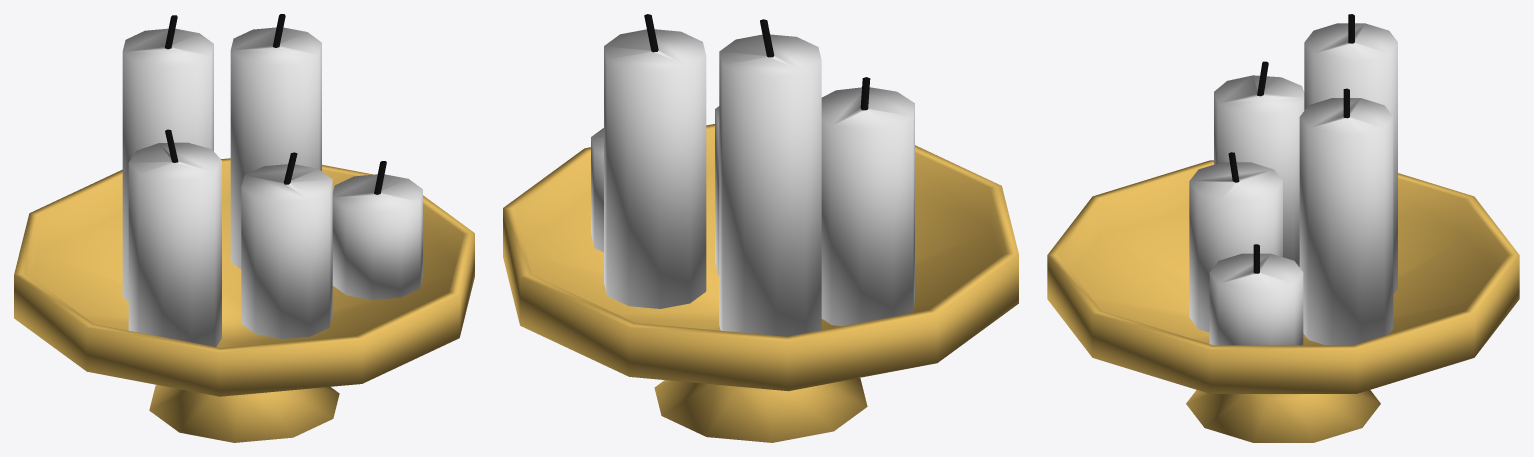
The model's file is Lilin 1,3.fbx.
3 renders of one model, left to right at view 1: azimuth 30°, elevation 25°; view 2: azimuth 150°, elevation 25°; view 3: azimuth 270°, elevation 25°, orthographic. The views are drawn at different scales.
Visible parts, largest first — view 1: Cylinder.027, Cylinder.024, Cylinder.025, Cylinder.023, Cylinder.022, Cylinder.026; view 2: Cylinder.027, Cylinder.022, Cylinder.023, Cylinder.024, Cylinder.026, Cylinder.025; view 3: Cylinder.027, Cylinder.023, Cylinder.025, Cylinder.024, Cylinder.026, Cylinder.022.
Boxes of the visible parts, box(x1,y1,x2,y2) form: Cylinder.027: box(14, 158, 474, 442); Cylinder.024: box(128, 129, 221, 346); Cylinder.025: box(241, 152, 332, 339); Cylinder.023: box(230, 14, 321, 269); Cylinder.022: box(122, 15, 213, 301); Cylinder.026: box(332, 161, 422, 300); Cylinder.027: box(503, 124, 1018, 442); Cylinder.022: box(719, 19, 821, 336); Cylinder.023: box(604, 14, 706, 308); Cylinder.024: box(821, 77, 914, 326); Cylinder.026: box(591, 128, 603, 252); Cylinder.025: box(715, 106, 719, 275); Cylinder.027: box(1047, 160, 1519, 442); Cylinder.023: box(1299, 88, 1393, 345); Cylinder.025: box(1189, 152, 1282, 332); Cylinder.024: box(1214, 61, 1304, 266); Cylinder.026: box(1209, 244, 1303, 345); Cylinder.022: box(1304, 14, 1397, 293).
Size of the model in its own units: 39.64 by 36.09 by 41.68.
